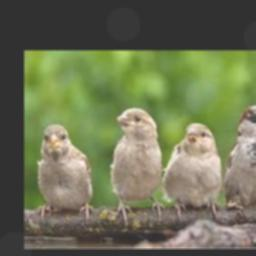Sparrow: (111, 108, 165, 224), (37, 124, 94, 223), (163, 123, 222, 215), (223, 104, 256, 216)
